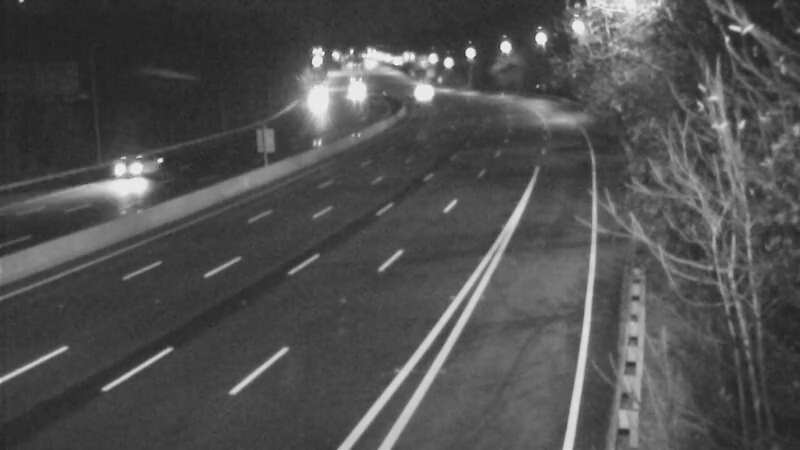vehicle: (93, 127, 173, 207), (394, 65, 444, 115), (290, 75, 340, 125), (329, 65, 379, 115)
